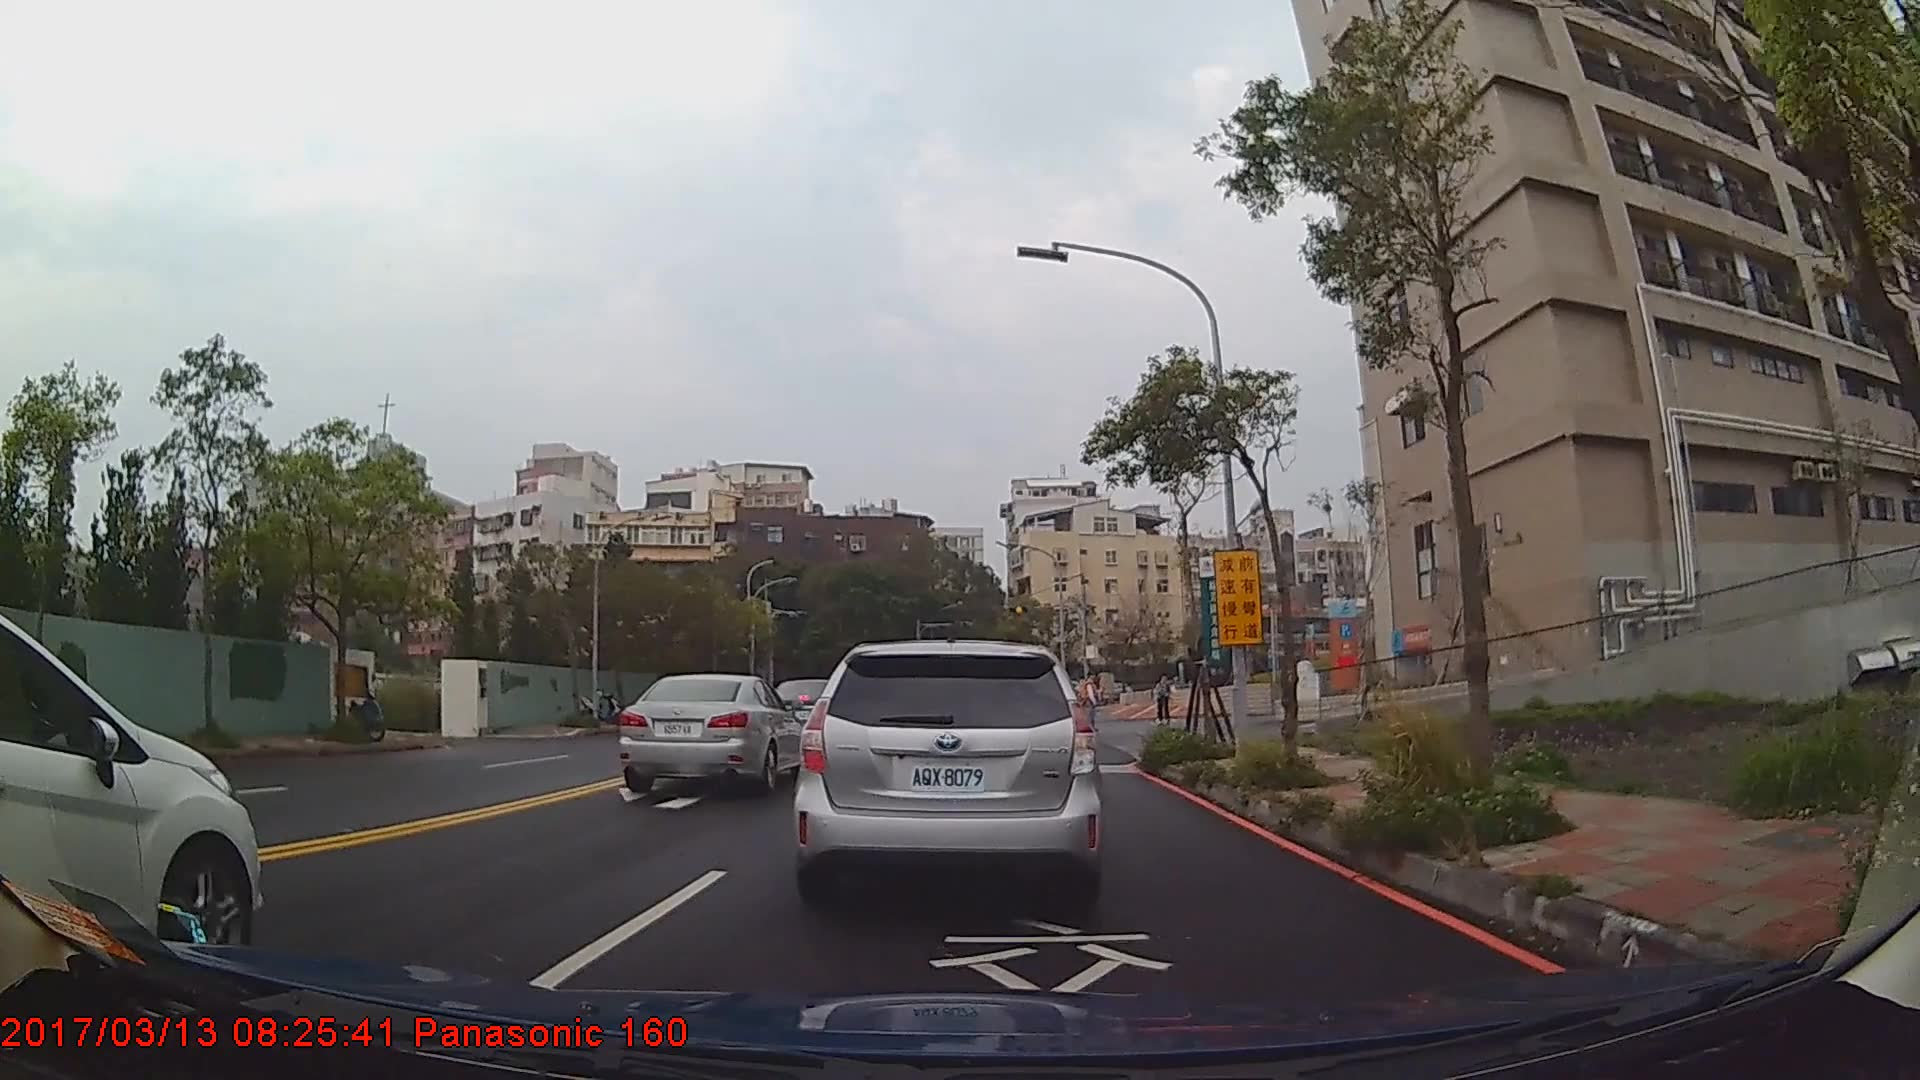pedestrian: (1082, 669, 1106, 738)
vehicle: (0, 612, 264, 964), (791, 636, 1108, 916), (619, 674, 808, 792)
